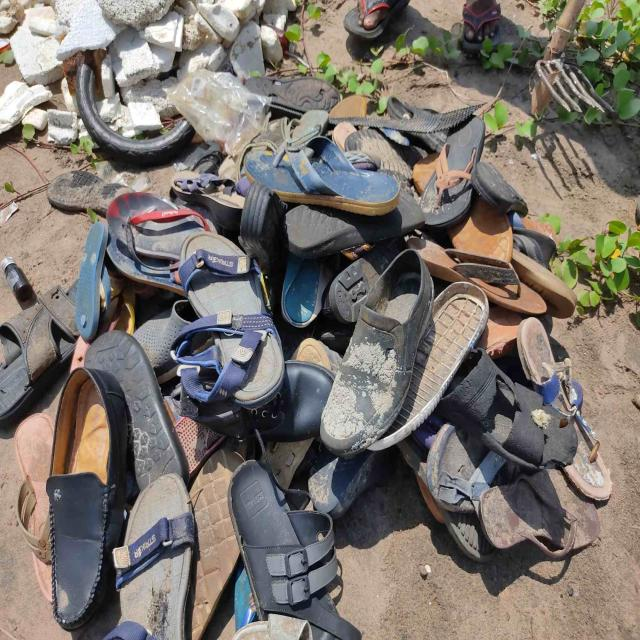dep: (228, 461, 362, 640), (321, 249, 435, 456), (45, 368, 127, 631), (172, 231, 284, 411), (518, 318, 613, 502), (437, 348, 579, 471), (84, 331, 188, 491), (113, 474, 194, 640), (245, 135, 400, 215), (180, 361, 333, 442), (409, 237, 548, 314), (480, 470, 601, 558), (0, 286, 76, 421), (284, 191, 425, 257), (106, 192, 214, 260), (420, 116, 486, 227), (74, 221, 110, 341), (45, 169, 132, 215), (244, 76, 340, 112), (344, 0, 410, 38), (596, 484, 598, 486)
nhua: (168, 68, 270, 154)
xop: (9, 0, 181, 86), (0, 80, 52, 132), (127, 101, 162, 133)
